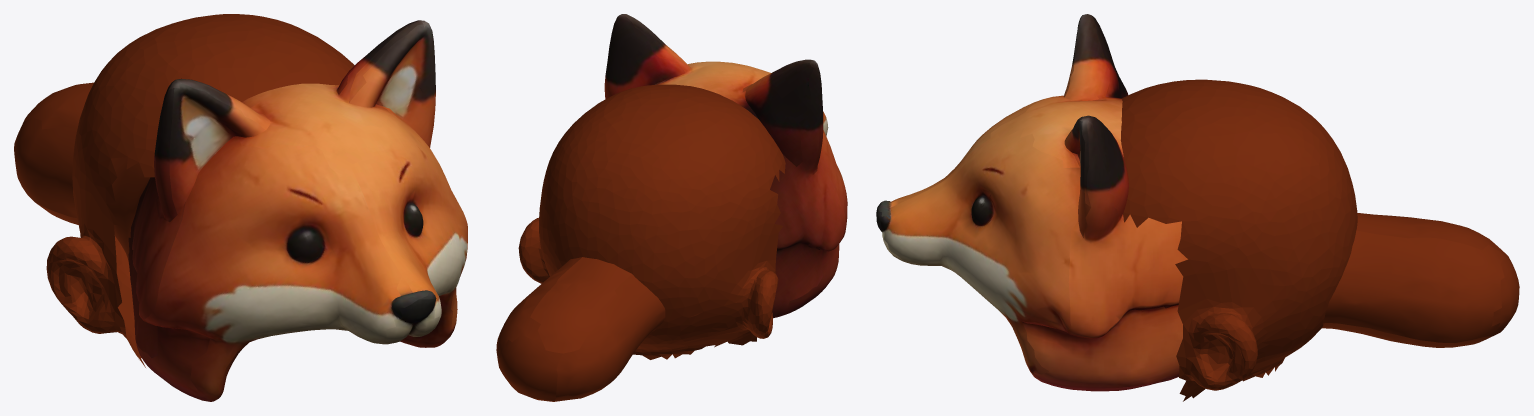
Rendered from red-fox.glb.
The picture shows the model from 3 angles, left to right: view 1: azimuth 30°, elevation 25°; view 2: azimuth 150°, elevation 25°; view 3: azimuth 270°, elevation 25°; orthographic projection. The views are drawn at different scales.
Parts seen in each view (by area): view 1: geometry_0, HoodAnatomicalLining; view 2: HoodAnatomicalLining, geometry_0; view 3: geometry_0, HoodAnatomicalLining.
Boxes of the visible parts, left/top/right/bottom form: geometry_0: left=14, top=20, right=467, bottom=401; HoodAnatomicalLining: left=46, top=14, right=354, bottom=367; HoodAnatomicalLining: left=518, top=84, right=785, bottom=359; geometry_0: left=496, top=14, right=847, bottom=401; geometry_0: left=876, top=14, right=1519, bottom=391; HoodAnatomicalLining: left=1120, top=79, right=1357, bottom=401.
Size of the model in its own units: 0.4751 by 0.4632 by 0.923.
Materials: 2 (1 with a texture image).
